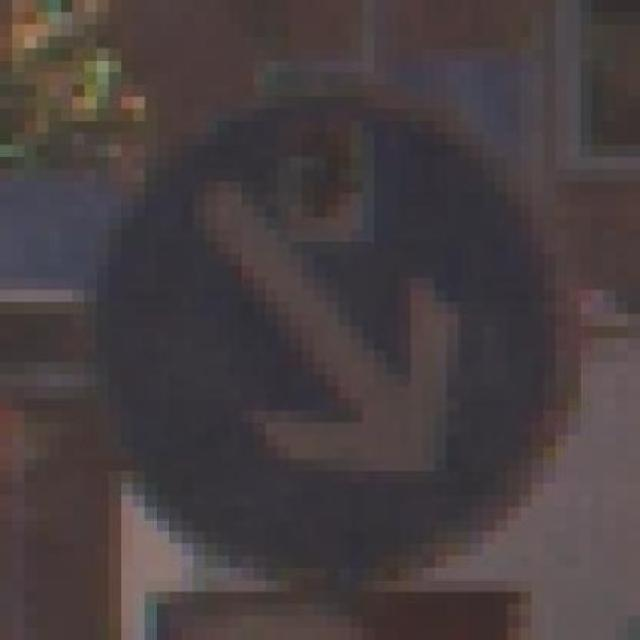Keep-Right: (61, 72, 604, 605)
